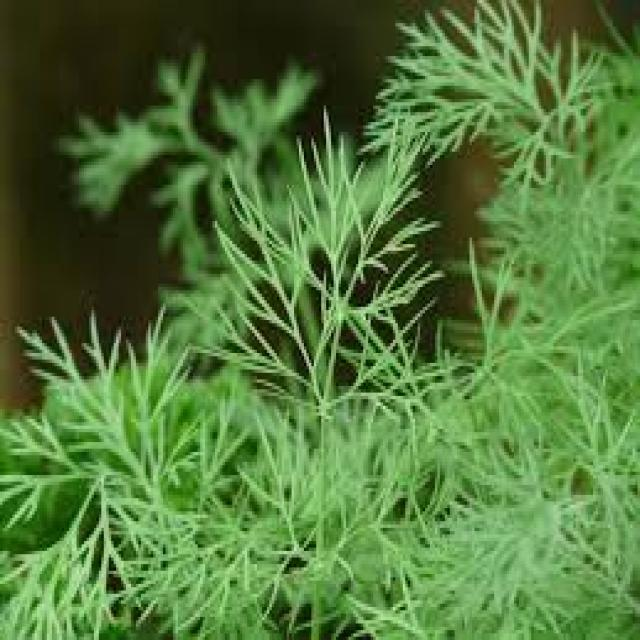Dill: (45, 59, 638, 637)
